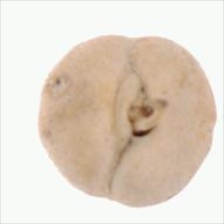L3: (115, 88, 168, 146)
L4: (38, 34, 218, 208)
